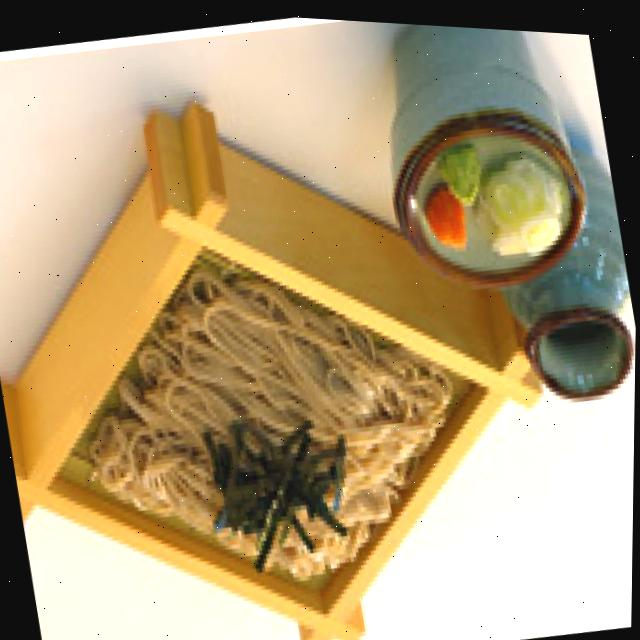面条主食: (0, 29, 584, 640)
